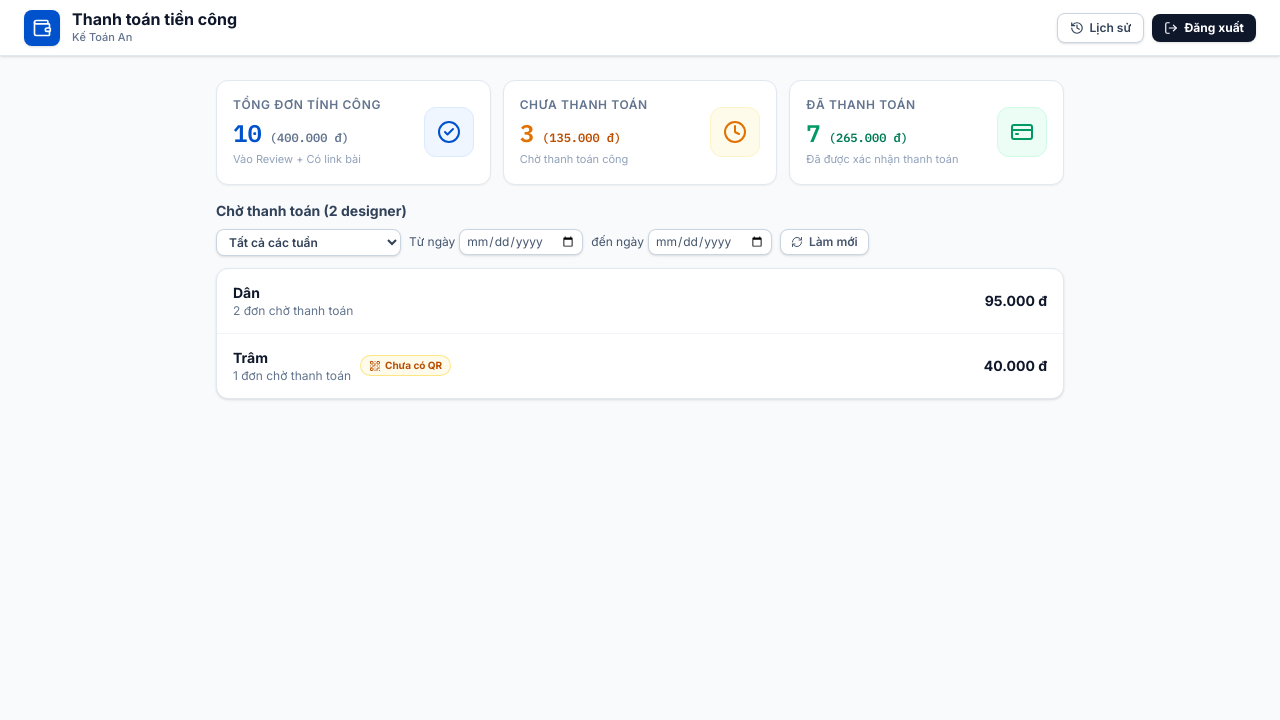
Test: AccountantPaymentsPage › opens a designer: amount on the left, no order list; pays and the period reads 0
Click the text "Dân": [246, 292] box [233,284,260,300]
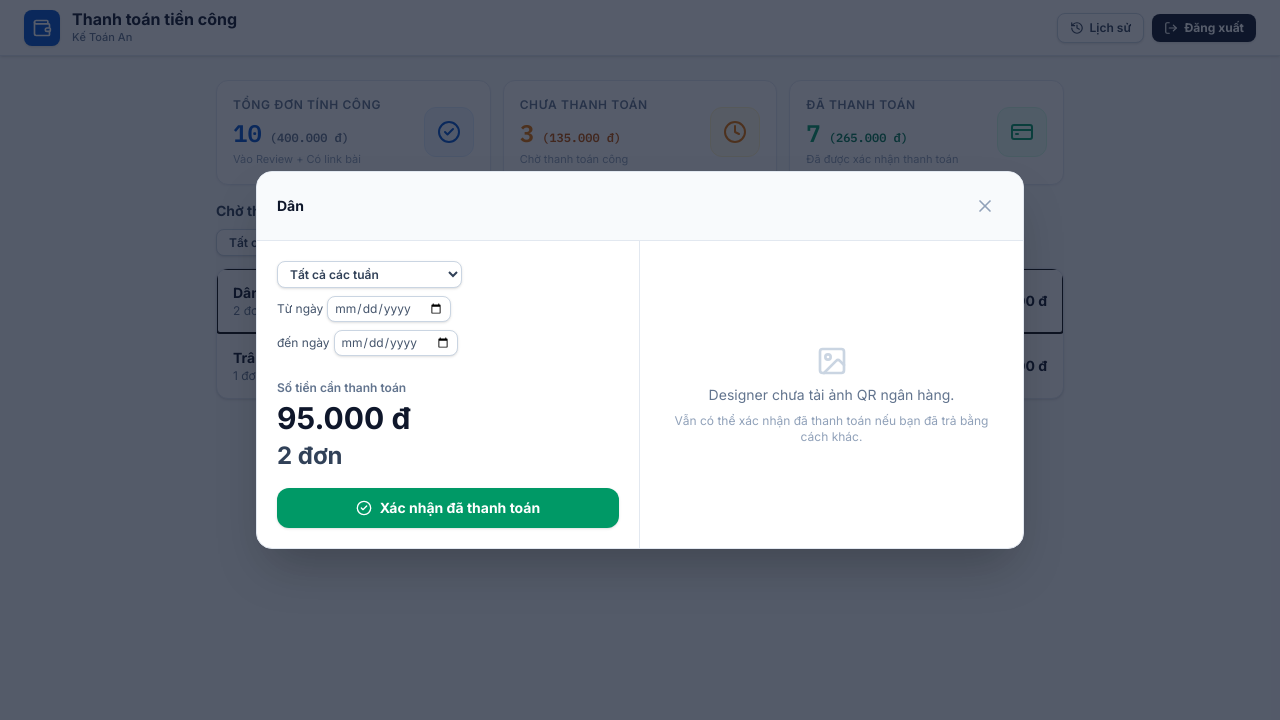
Now the text with test id "pay-amount" reads "95.000 đ", box [277,400,410,436]
Now the text "2 đơn" is shown, box [277,441,343,470]
Click the button "Xác nhận đã thanh toán": [448, 508] box [277,488,619,528]
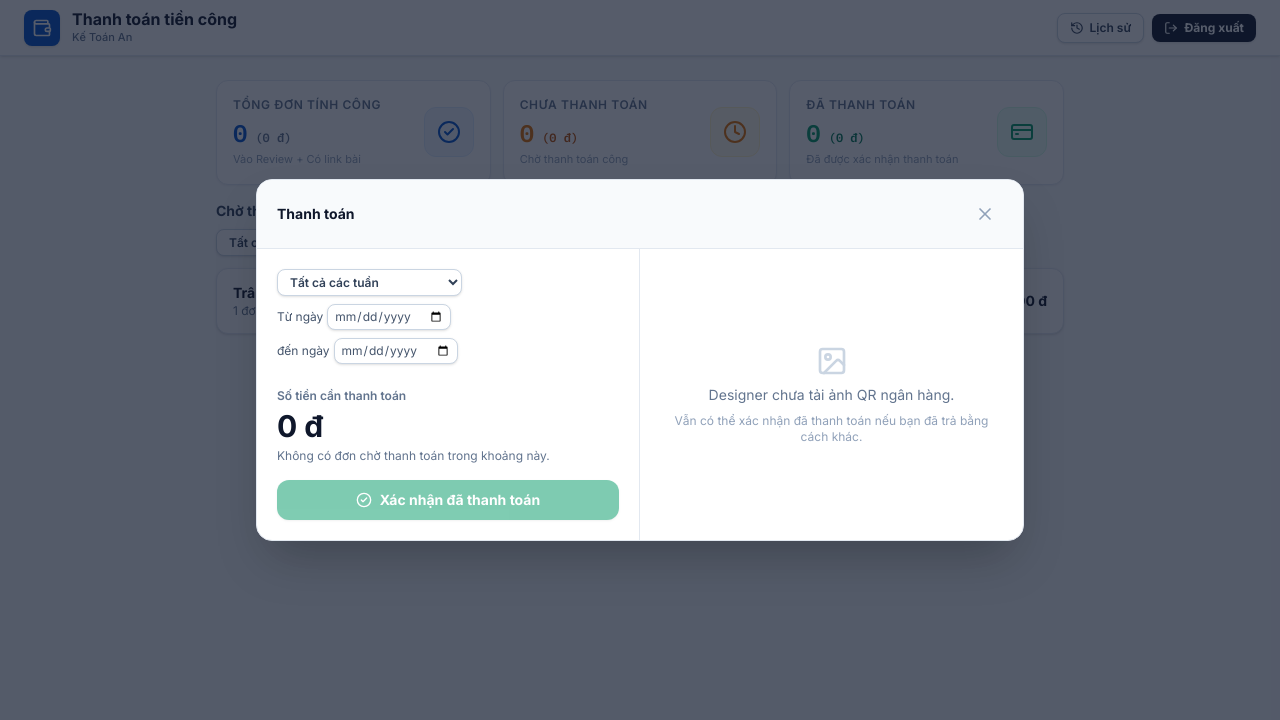
Now the text with test id "pay-amount" reads "0 đ", box [277,408,323,444]
Now the text "Không có đơn chờ thanh toán trong khoảng này." is shown, box [277,448,550,463]
Now the button "Xác nhận đã thanh toán" is disabled, box [277,480,619,520]
